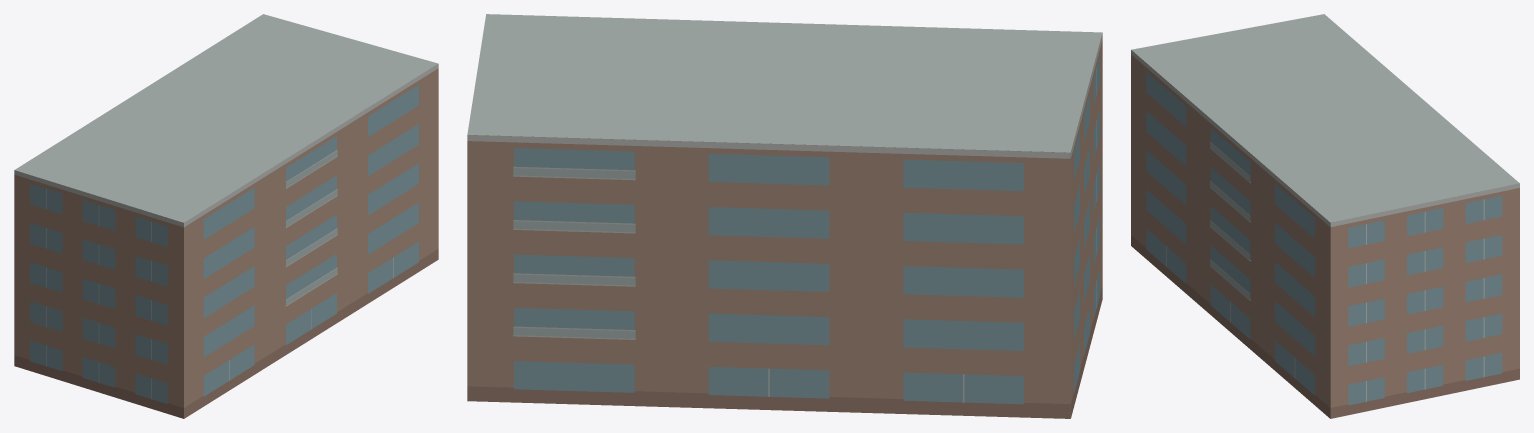
Rendered from survey-upis-33002723.glb.
The picture shows the model from 3 angles, left to right: view 1: azimuth 30°, elevation 25°; view 2: azimuth 150°, elevation 25°; view 3: azimuth 270°, elevation 25°; orthographic projection. The views are drawn at different scales.
Parts seen in each view (by area): view 1: survey-upis-33002723.tmp; view 2: survey-upis-33002723.tmp; view 3: survey-upis-33002723.tmp.
Boxes of the visible parts, box(x1,y1,x2,y2) form: survey-upis-33002723.tmp: box(14, 14, 438, 418); survey-upis-33002723.tmp: box(467, 14, 1102, 418); survey-upis-33002723.tmp: box(1131, 14, 1519, 418).
Bounding box in the file's own units: 23.96 × 10.5 × 18.86.
